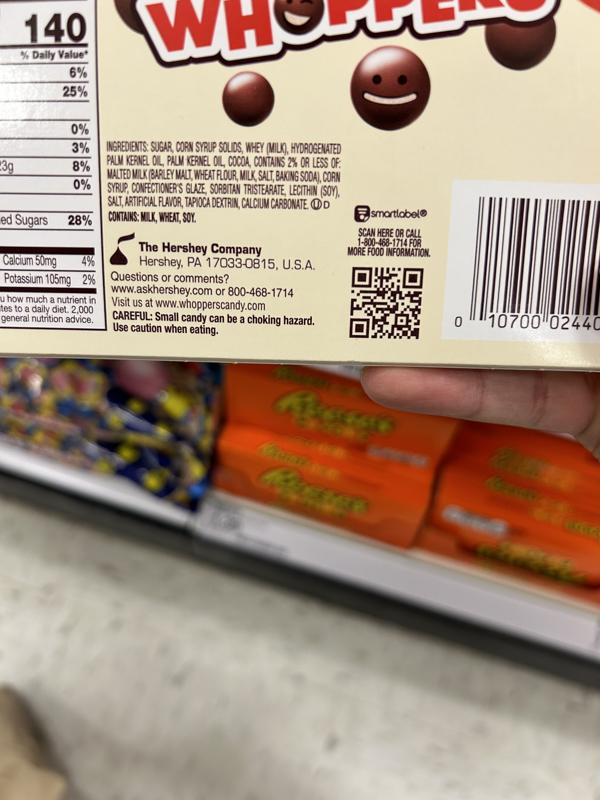ingredients: (104, 138, 342, 211)
